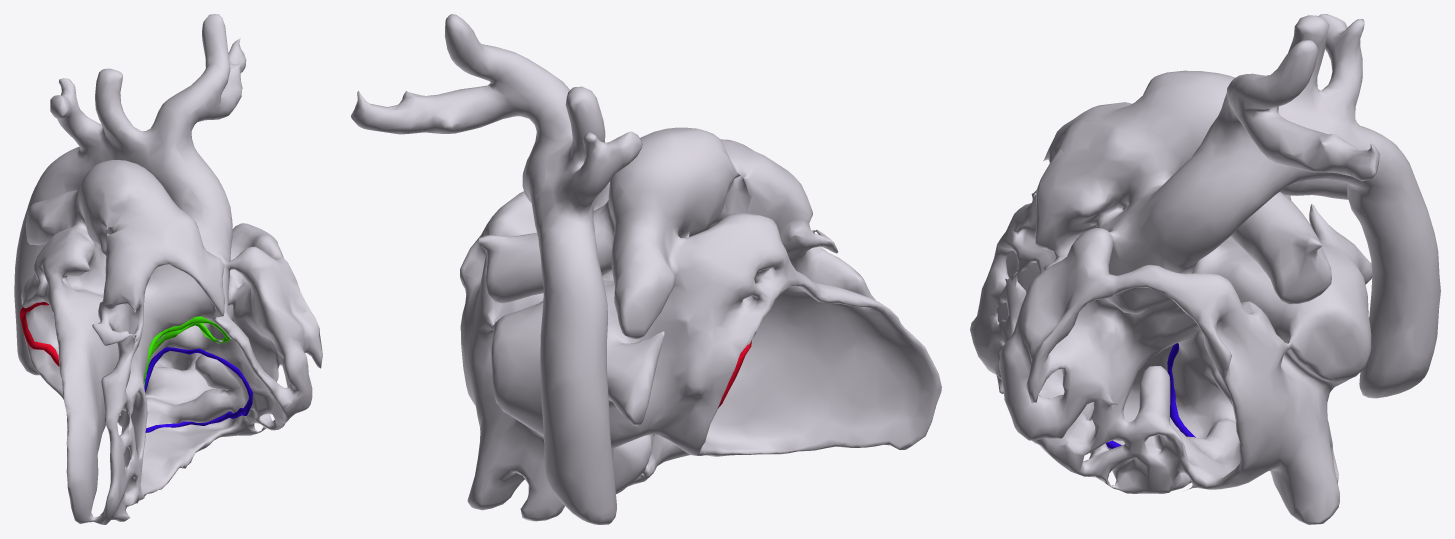
File: {I,L,L} DORV, SubAoVSD.gltf
3 renders of one model, left to right at view 1: azimuth 30°, elevation 25°; view 2: azimuth 150°, elevation 25°; view 3: azimuth 270°, elevation 25°, orthographic. The views are drawn at different scales.
Parts seen in each view (by area): view 1: heart, tv, vsd, mv; view 2: heart; view 3: heart, tv.
Boxes of the visible parts, x1,y1,x2,y2 form: heart: [14, 14, 322, 524]; tv: [144, 347, 252, 432]; vsd: [143, 316, 230, 387]; mv: [19, 302, 59, 366]; heart: [351, 14, 941, 524]; heart: [970, 14, 1440, 524]; tv: [1106, 343, 1195, 448].
Size of the model in its own units: 51.13 by 57.94 by 49.54.
